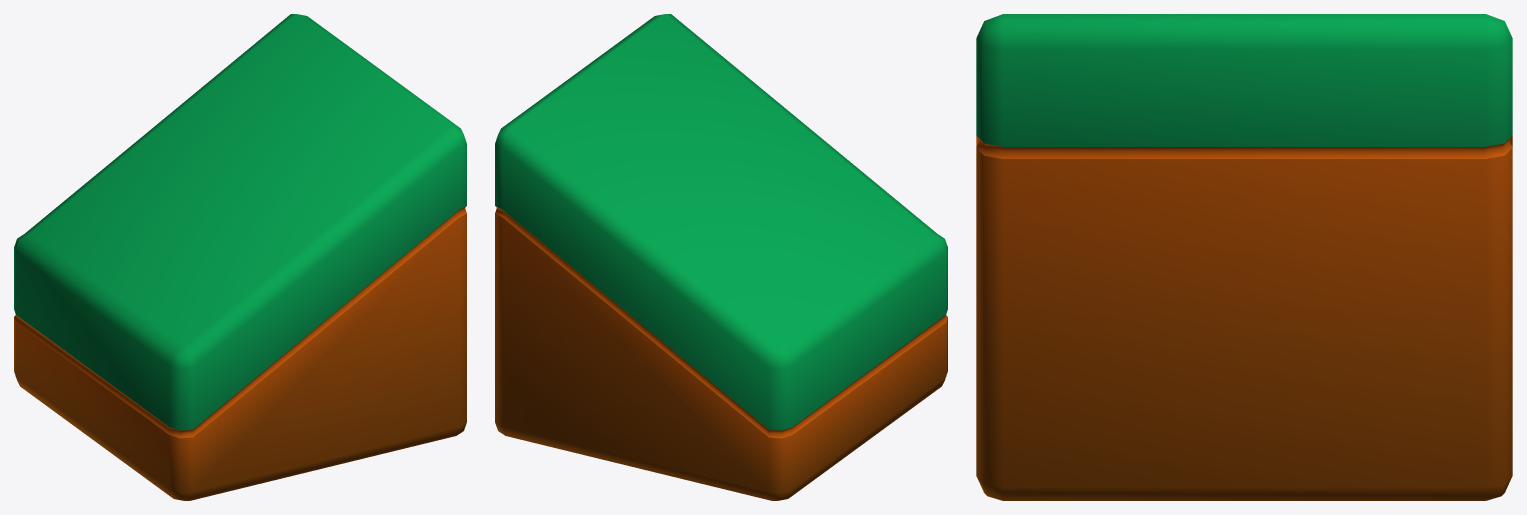
File: 3D_Tile_Ground_Slope_01v03.fbx
3 views of the same model, side by side, from view 1: azimuth 30°, elevation 25°; view 2: azimuth 150°, elevation 25°; view 3: azimuth 270°, elevation 25° (orthographic). The views are drawn at different scales.
Parts seen in each view (by area): view 1: 3D_Tile_Ground_Slope_01v03; view 2: 3D_Tile_Ground_Slope_01v03; view 3: 3D_Tile_Ground_Slope_01v03.
Boxes of the visible parts, <box> form: 3D_Tile_Ground_Slope_01v03: <box>14,14,466,500</box>; 3D_Tile_Ground_Slope_01v03: <box>495,14,947,500</box>; 3D_Tile_Ground_Slope_01v03: <box>976,14,1512,500</box>.
Bounding box in the file's own units: 200 × 200 × 200.
